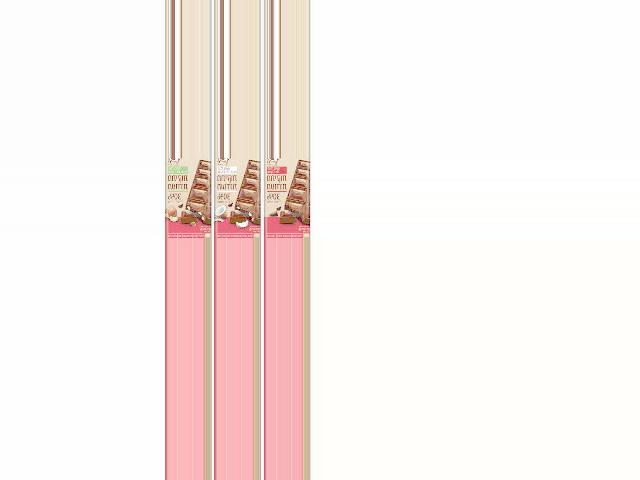chocolate: (163, 159, 210, 239)
